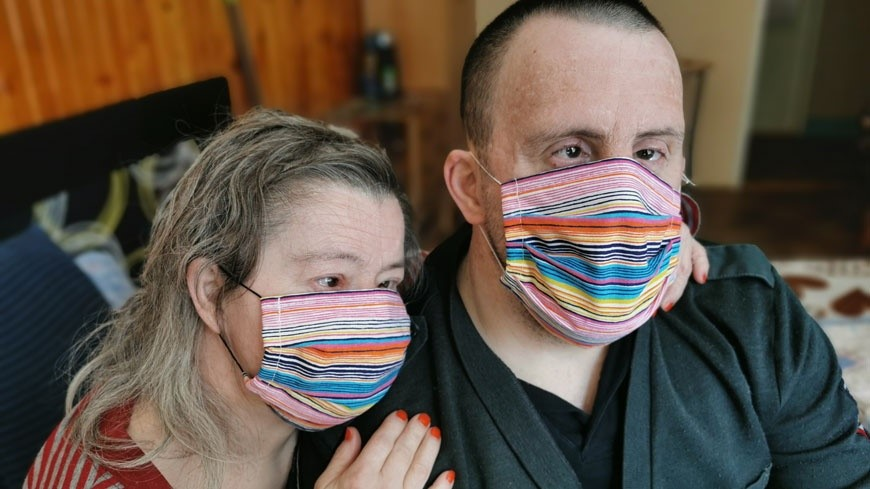face_with_mask: (445, 1, 694, 344), (162, 115, 411, 429)
